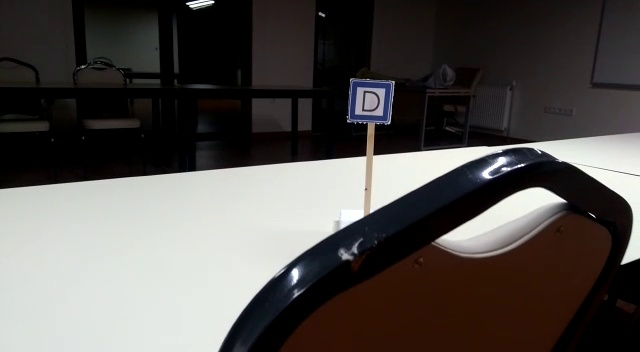durak: (348, 80, 396, 123)
